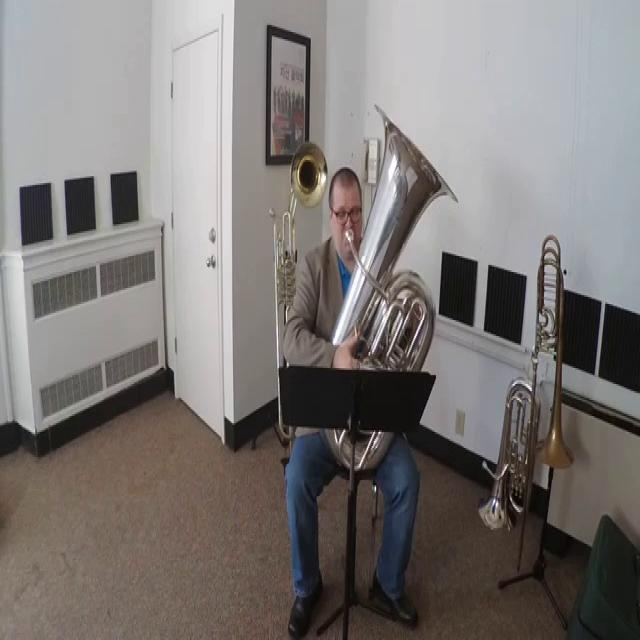Tuba: (297, 87, 479, 488)
